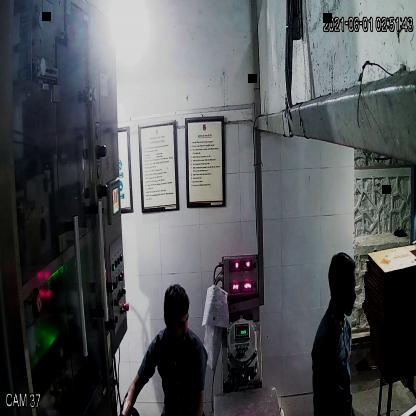no_goggles: (162, 308, 192, 330)
